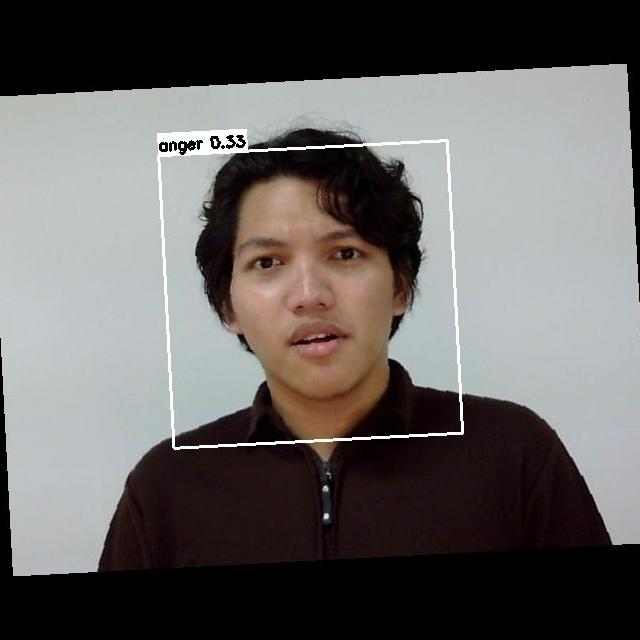Surprised: (230, 214, 402, 375)
